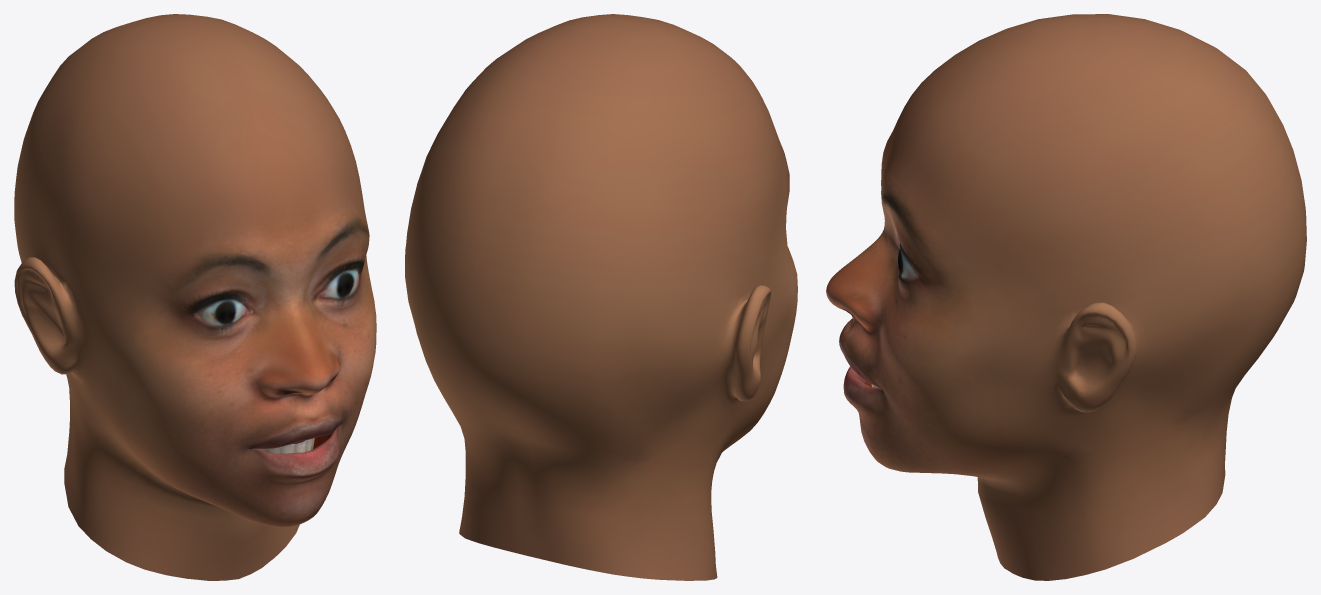
Rendered from v332_obj_ExpressionSurprise.obj.
3 renders of one model, left to right at view 1: azimuth 30°, elevation 25°; view 2: azimuth 150°, elevation 25°; view 3: azimuth 270°, elevation 25°, orthographic. The views are drawn at different scales.
Visible parts, largest first — view 1: HeadHires, Mouth; view 2: HeadHires; view 3: HeadHires.
Boxes of the visible parts, x1=… form: HeadHires: x1=14, y1=14, x2=376, y2=580; Mouth: x1=253, y1=433, x2=332, y2=453; HeadHires: x1=405, y1=14, x2=797, y2=580; HeadHires: x1=826, y1=14, x2=1306, y2=580.
Size of the model in its own units: 187 by 283 by 233.
